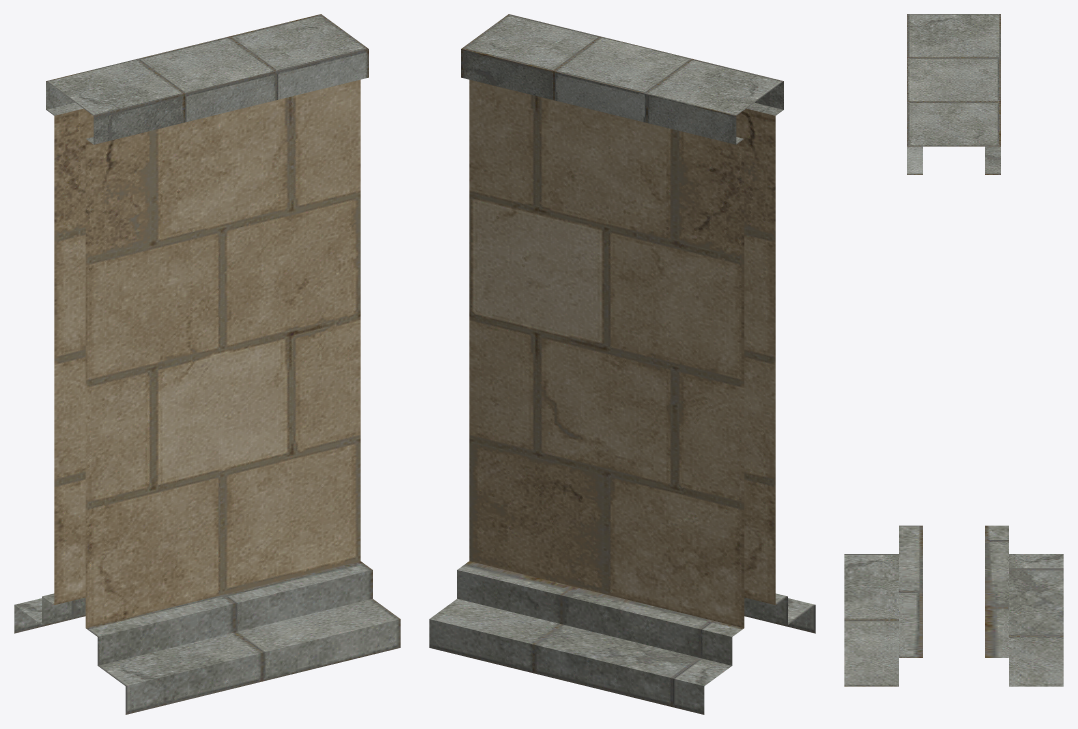
File: wall_plain_1U.fbx
The picture shows the model from 3 angles, left to right: view 1: azimuth 30°, elevation 25°; view 2: azimuth 150°, elevation 25°; view 3: azimuth 270°, elevation 25°; orthographic projection.
Parts seen in each view (by area): view 1: wall_plain_1U; view 2: wall_plain_1U; view 3: wall_plain_1U.
Boxes of the visible parts, x1=… form: wall_plain_1U: x1=14, y1=14, x2=400, y2=714; wall_plain_1U: x1=429, y1=14, x2=815, y2=714; wall_plain_1U: x1=844, y1=14, x2=1063, y2=686.
Bounding box in the file's own units: 100 × 200 × 70.
